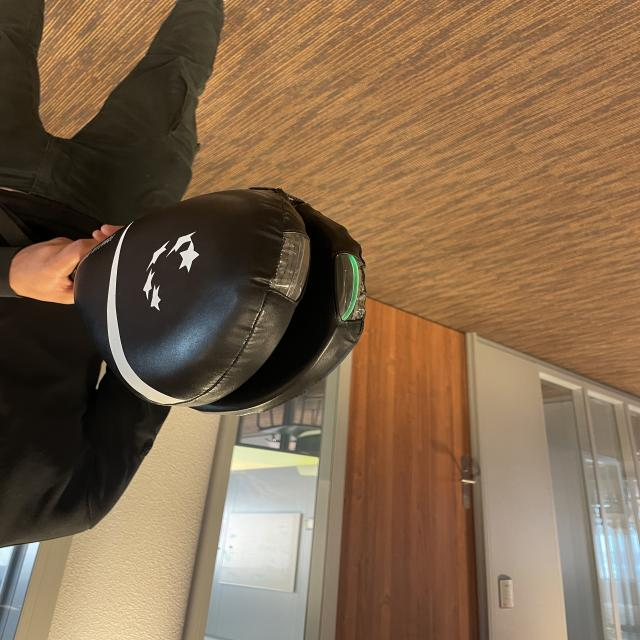paddle: (78, 184, 370, 416), (334, 248, 368, 328)
